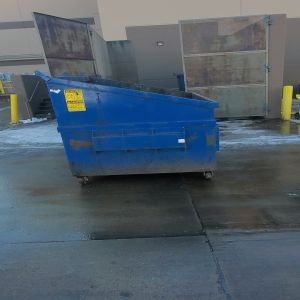Dumpster: (45, 77, 227, 190)
